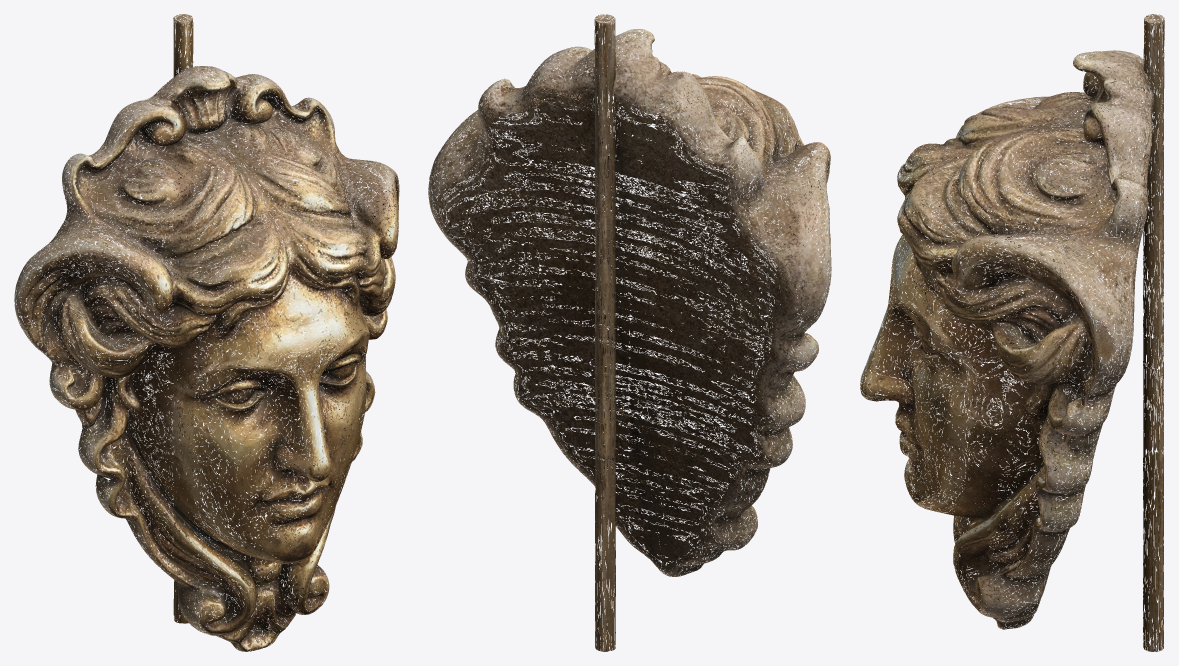
Rendered from medusa-handle-compact.glb.
The picture shows the model from 3 angles, left to right: view 1: azimuth 30°, elevation 25°; view 2: azimuth 150°, elevation 25°; view 3: azimuth 270°, elevation 25°; orthographic projection. The views are drawn at different scales.
Visible parts, largest first — view 1: MedusaDoorHandle; view 2: MedusaDoorHandle; view 3: MedusaDoorHandle.
Part boxes in pixels (x1,y1,x2,y2): MedusaDoorHandle: [14, 14, 399, 651]; MedusaDoorHandle: [428, 14, 831, 651]; MedusaDoorHandle: [860, 14, 1164, 651].
Size of the model in its own units: 0.6462 by 0.9828 by 0.4306.
Materials: 1 (1 with a texture image).
